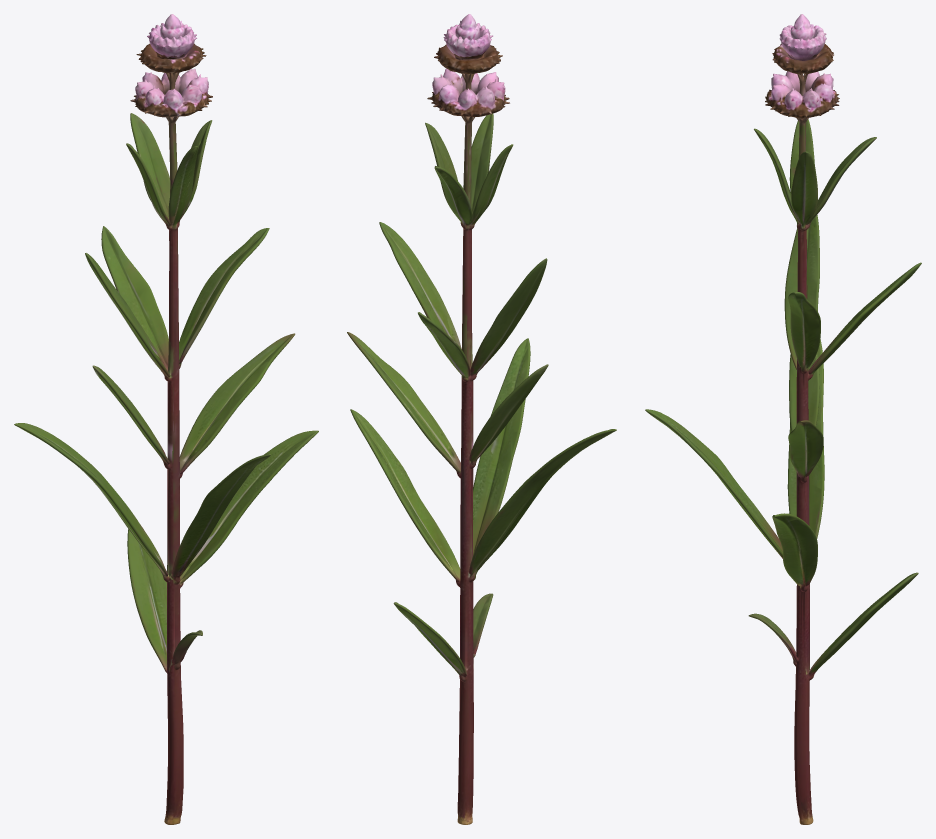
File: peilan.glb
3 renders of one model, left to right at view 1: azimuth 30°, elevation 25°; view 2: azimuth 150°, elevation 25°; view 3: azimuth 270°, elevation 25°, orthographic.
Visible parts, largest first — view 1: node_0; view 2: node_0; view 3: node_0.
Part boxes in pixels (x1=…): node_0: x1=14, y1=14, x2=318, y2=824; node_0: x1=347, y1=14, x2=616, y2=824; node_0: x1=645, y1=14, x2=921, y2=824.
Bounding box in the file's own units: 0.4418 × 1.2 × 0.3719.
Materials: 1 (1 with a texture image).
